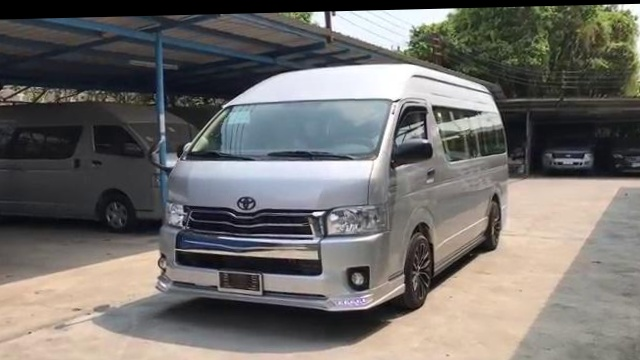van: (149, 62, 511, 324)
